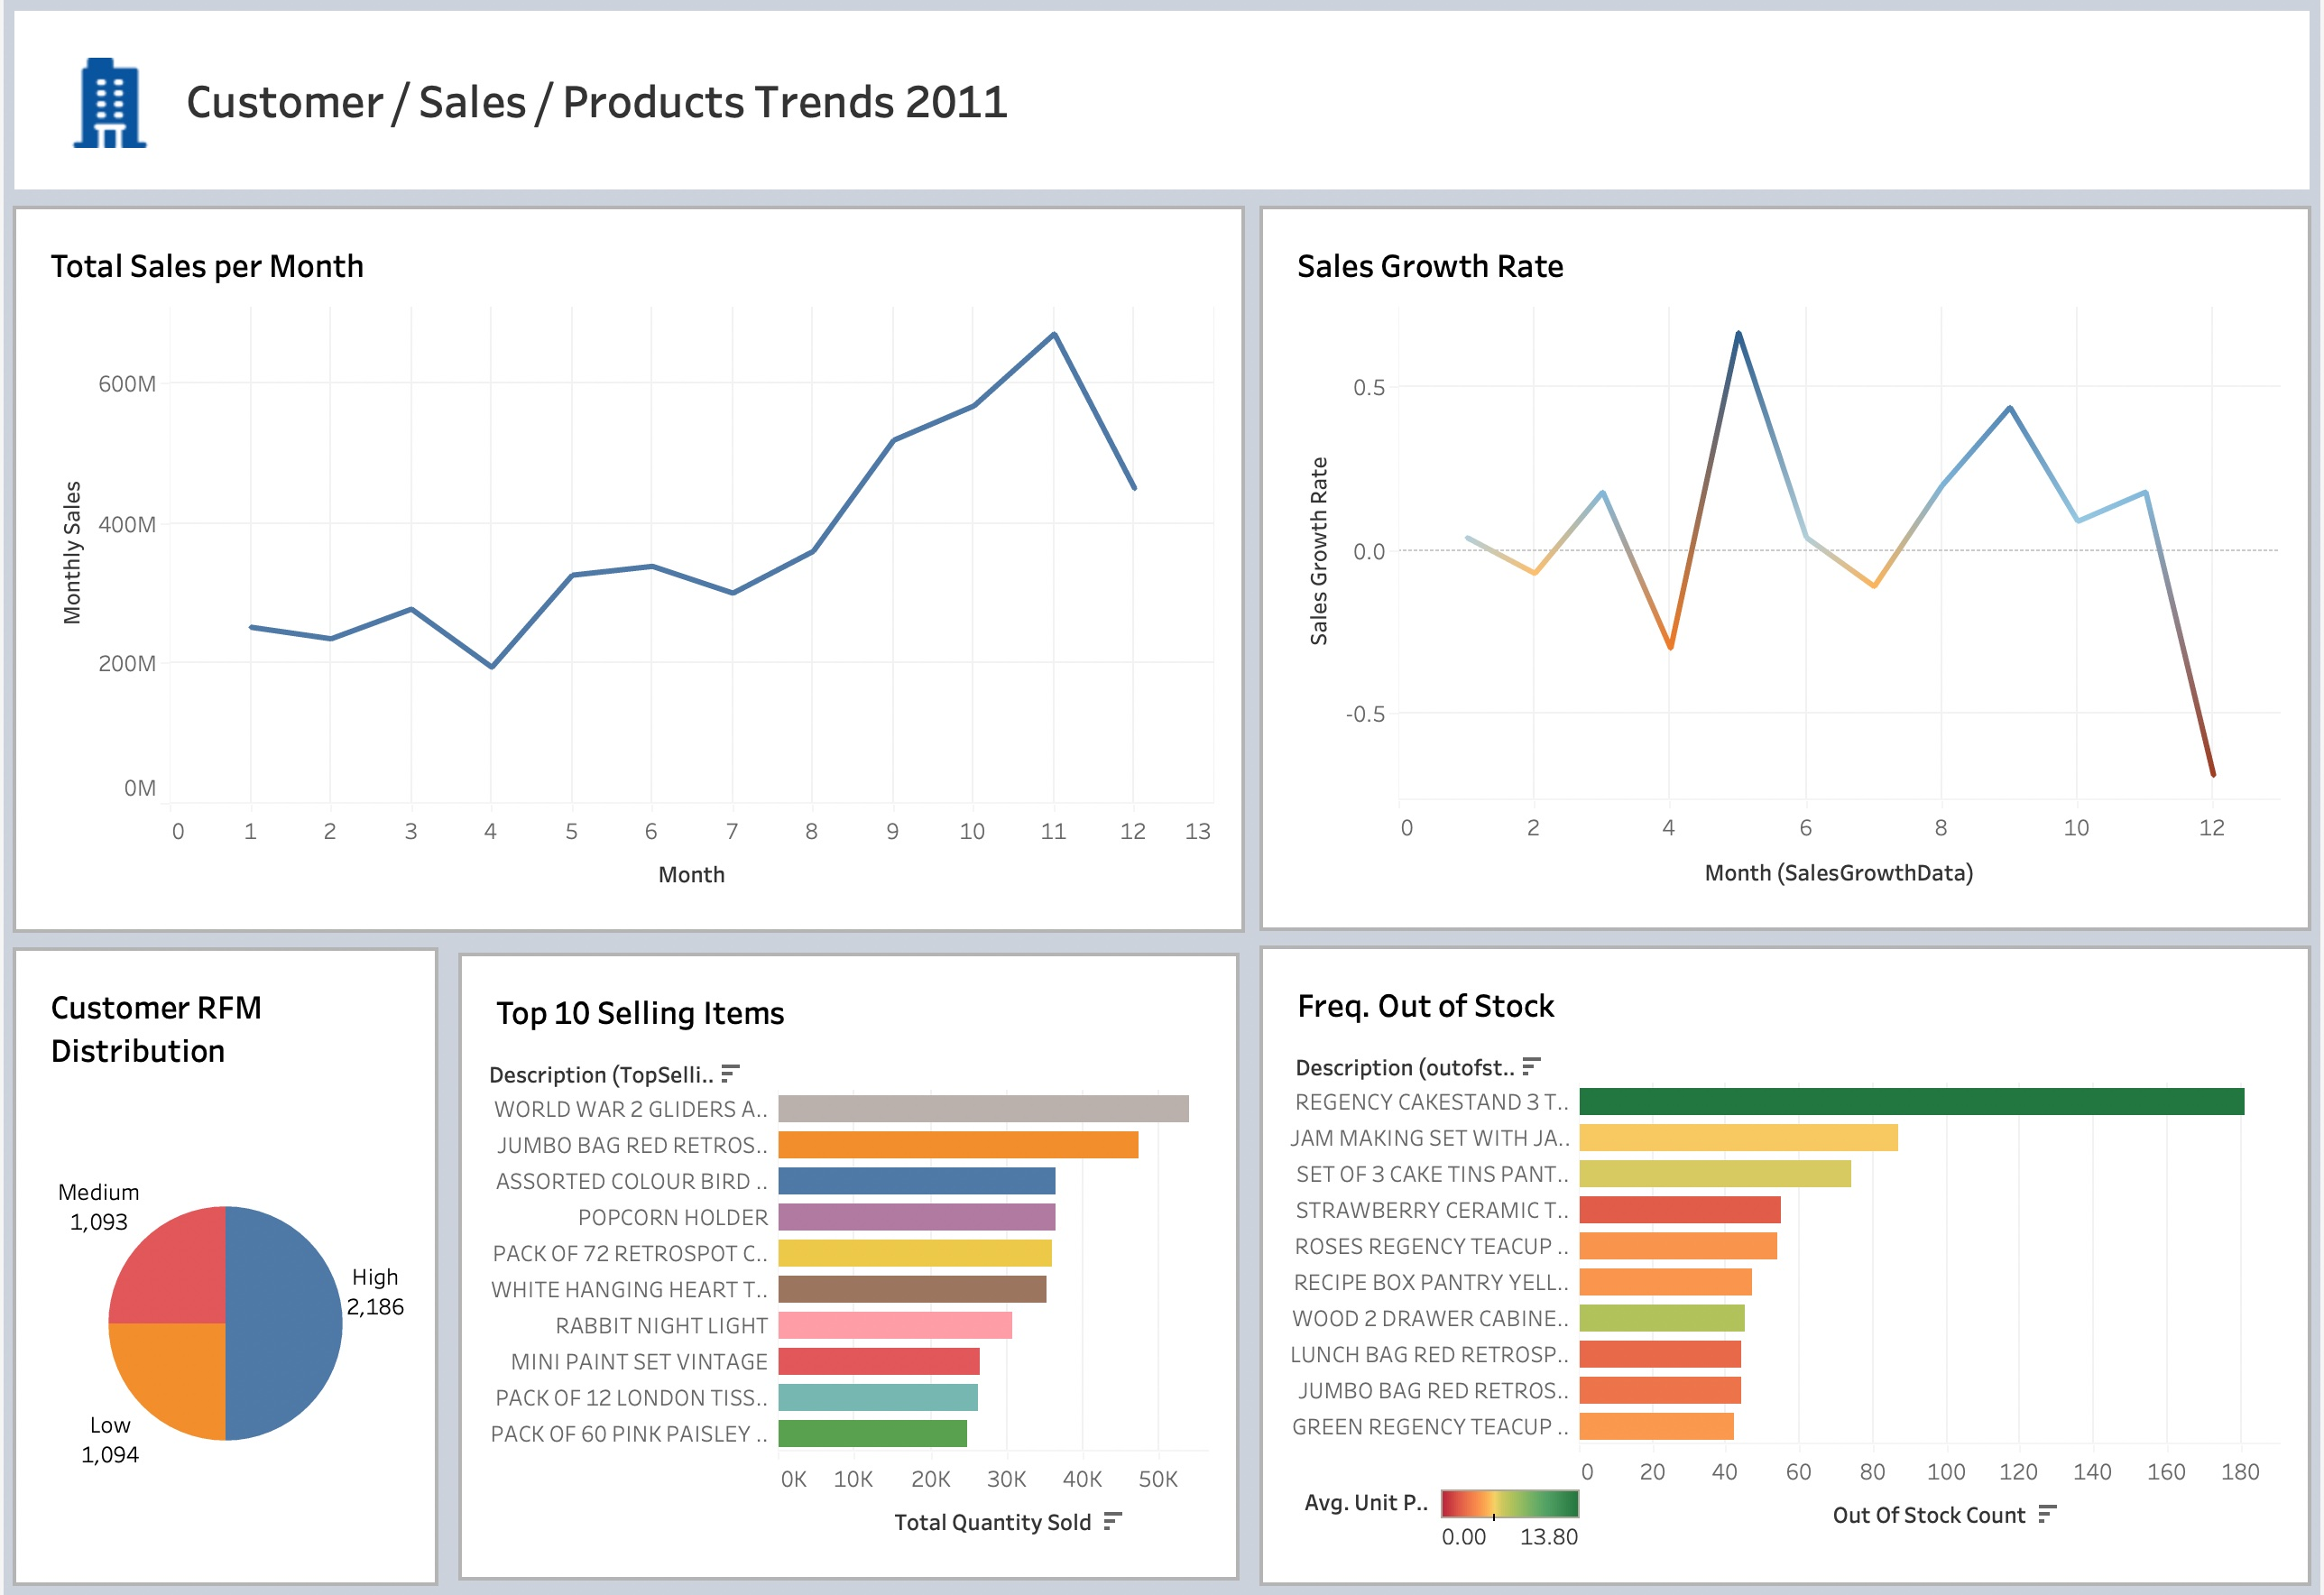

What the dashboard file says about the page in this screenshot:
{"tool":"tableau","page":{"name":"Dashboard 3","canvas":[1000,800],"ordinal":2},"visuals":[{"type":"title","box":[8,8,984,41]},{"type":"worksheet","title":"Sheet 7","mark":"Automatic","rows":["MonthlySales"],"cols":["Month"],"box":[8,49,492,392.3]},{"type":"worksheet","title":"Sheet 10","mark":"Automatic","rows":["SalesGrowthRate"],"cols":["Month (SalesGrowthData)"],"box":[500,49,492,392.3]},{"type":"worksheet","title":"Sheet 13","mark":"Bar","rows":["Date"],"cols":["TotalSales"],"box":[8,441.3,984,350.7]},{"type":"legend","title":"Sheet 13","param":"[federated.0i5ynd00bf3w5w1aq6y280vr25mc].[tmn:Date:qk]","box":[798,656,172,76]}]}

Visuals, with their boxes on the page's 1000x800 design canvas (x1, y1, x2, y2). These are canvas units, not pixel positions in the 2324x1595 screenshot, which may show the page scaled, cropped or inside an application window:
title: [x1=8, y1=8, x2=992, y2=49]
"Sheet 7" worksheet: [x1=8, y1=49, x2=500, y2=441]
"Sheet 10" worksheet: [x1=500, y1=49, x2=992, y2=441]
"Sheet 13" worksheet (Bar marks): [x1=8, y1=441, x2=992, y2=792]
"Sheet 13" legend: [x1=798, y1=656, x2=970, y2=732]
